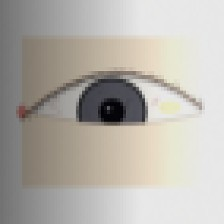pinguecula_lesion: (148, 90, 192, 125)
